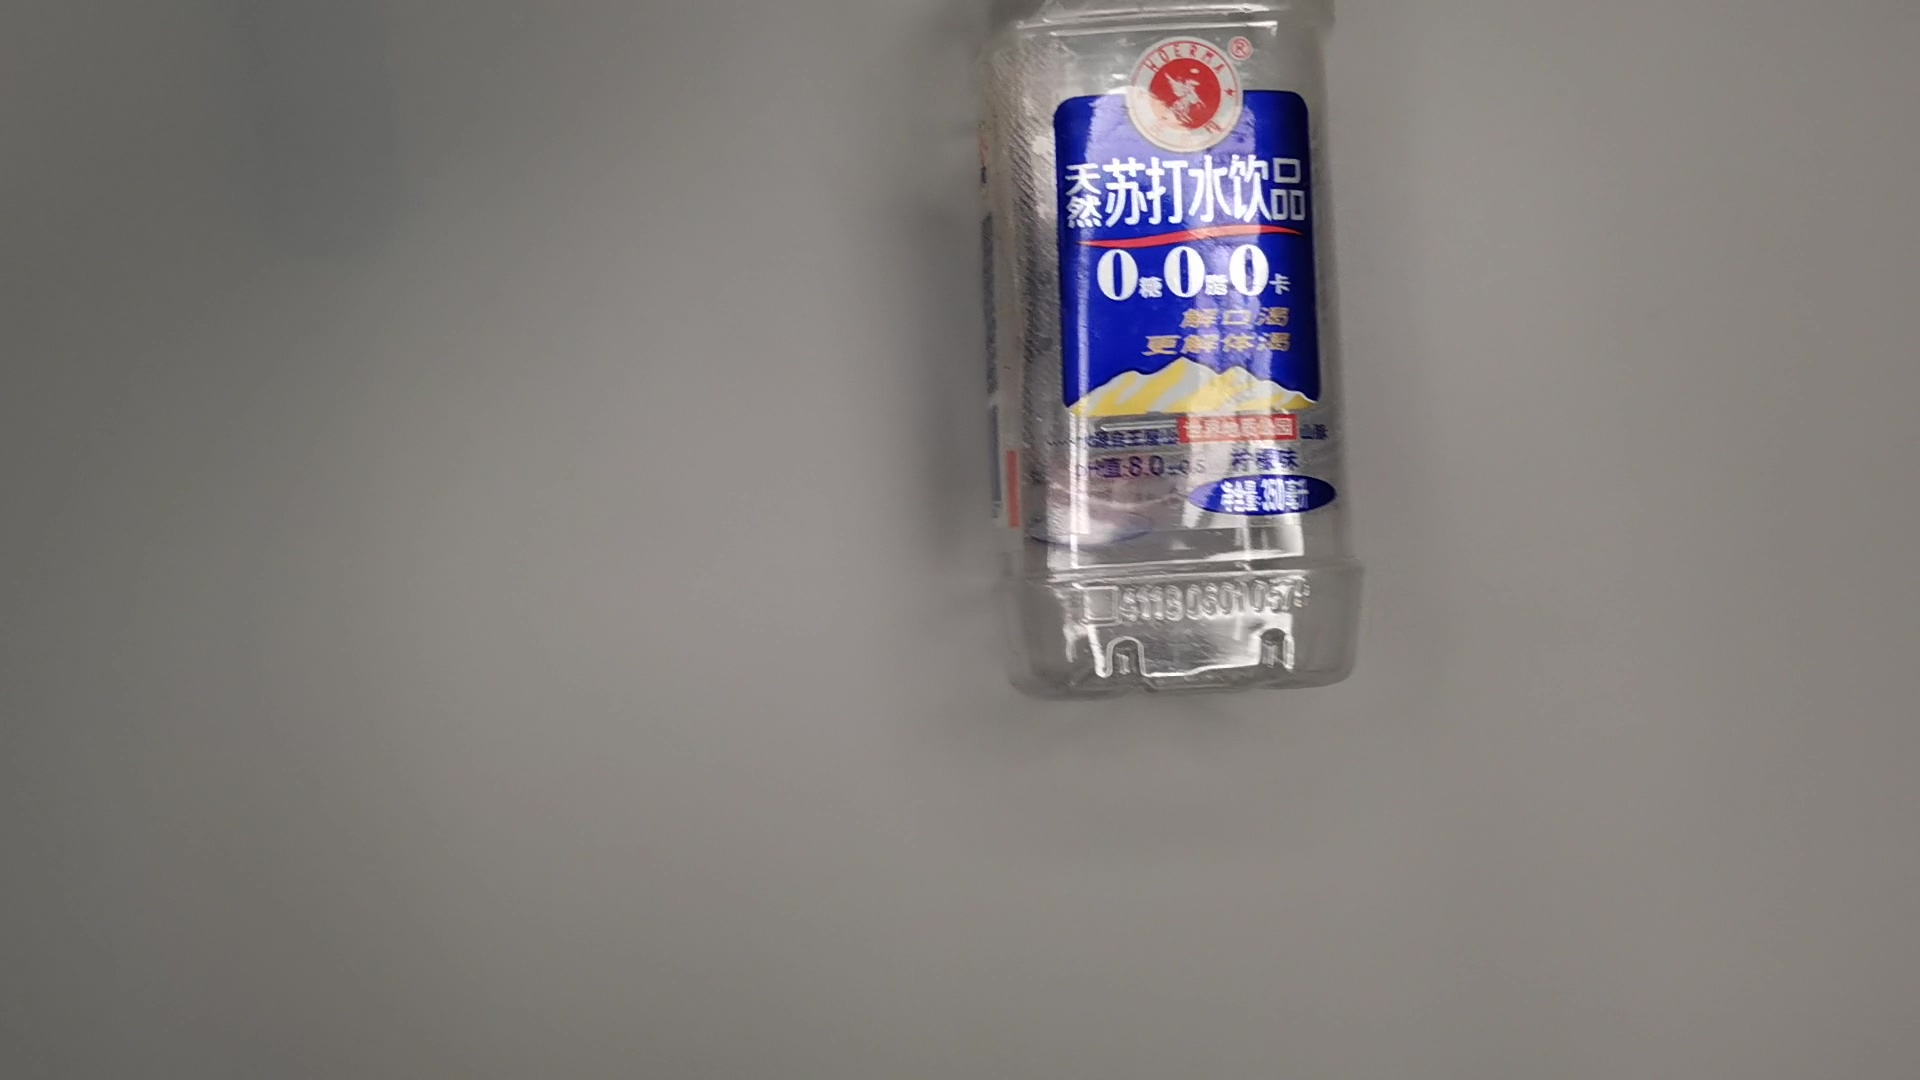bottle: (951, 1, 1371, 711)
